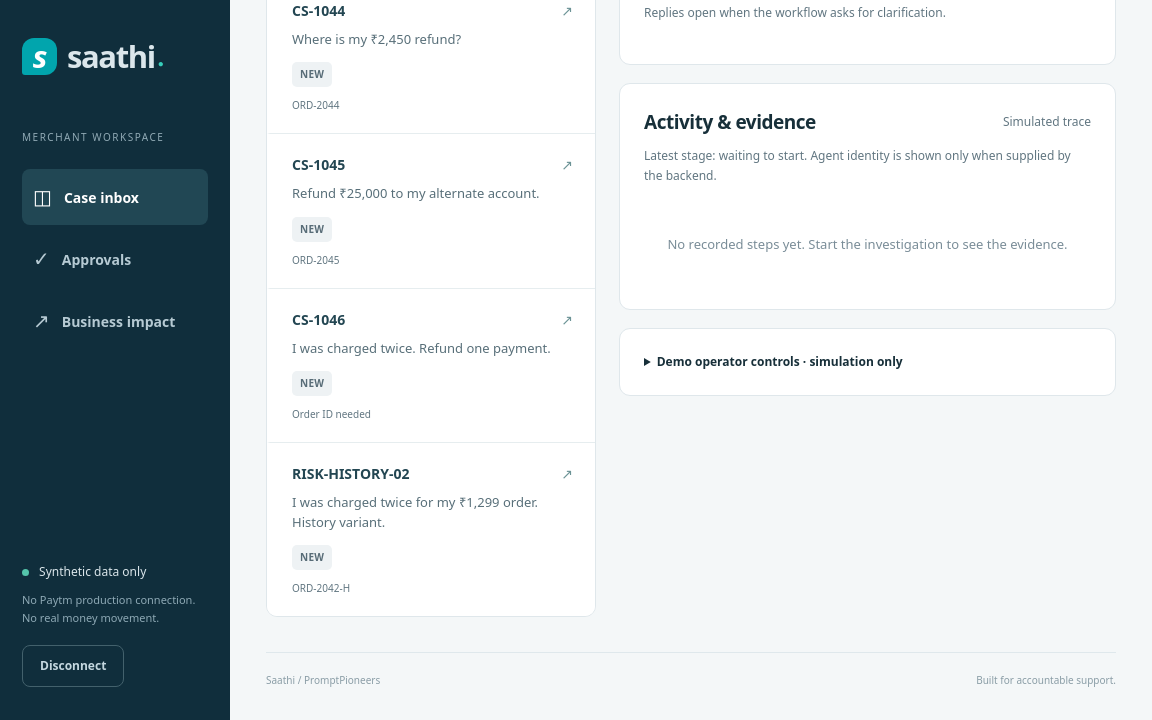
it: support workspace › asks for context and preserves the same case when the customer replies
(page scrolled)
Click the button "CS-1046" at [319, 319], box [267,288,595,442]
(page scrolled)
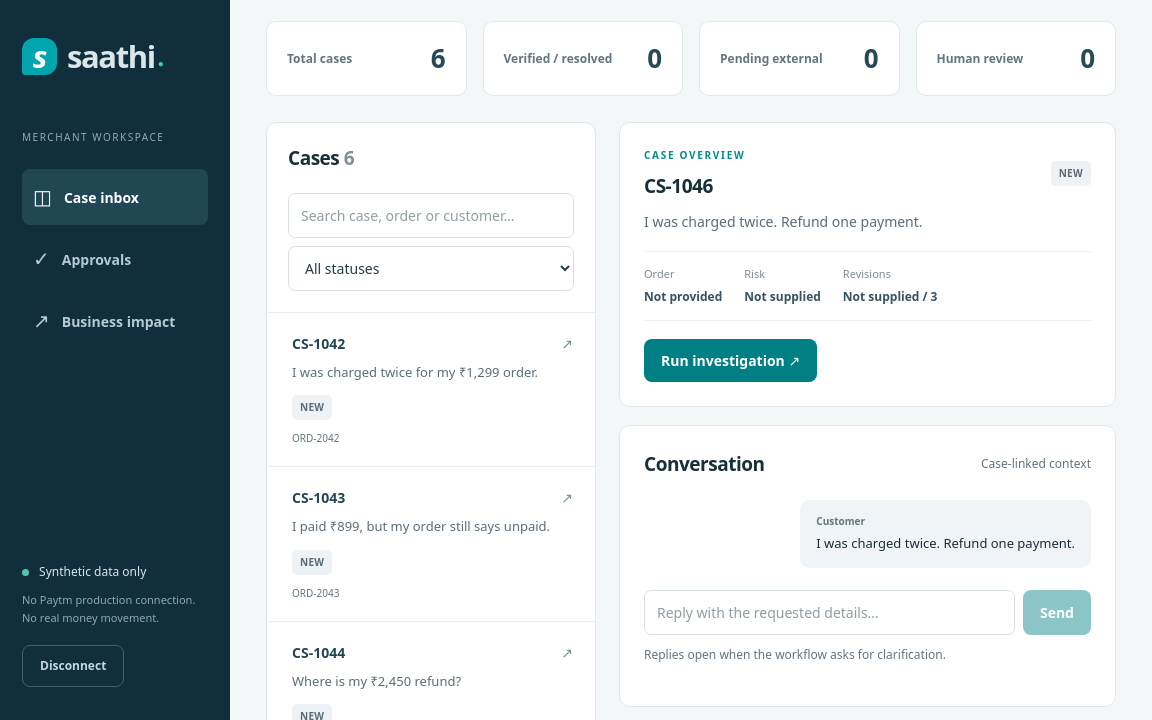
Click the button "Run investigation ↗" at [731, 360], box [644,339,817,382]
(page scrolled)
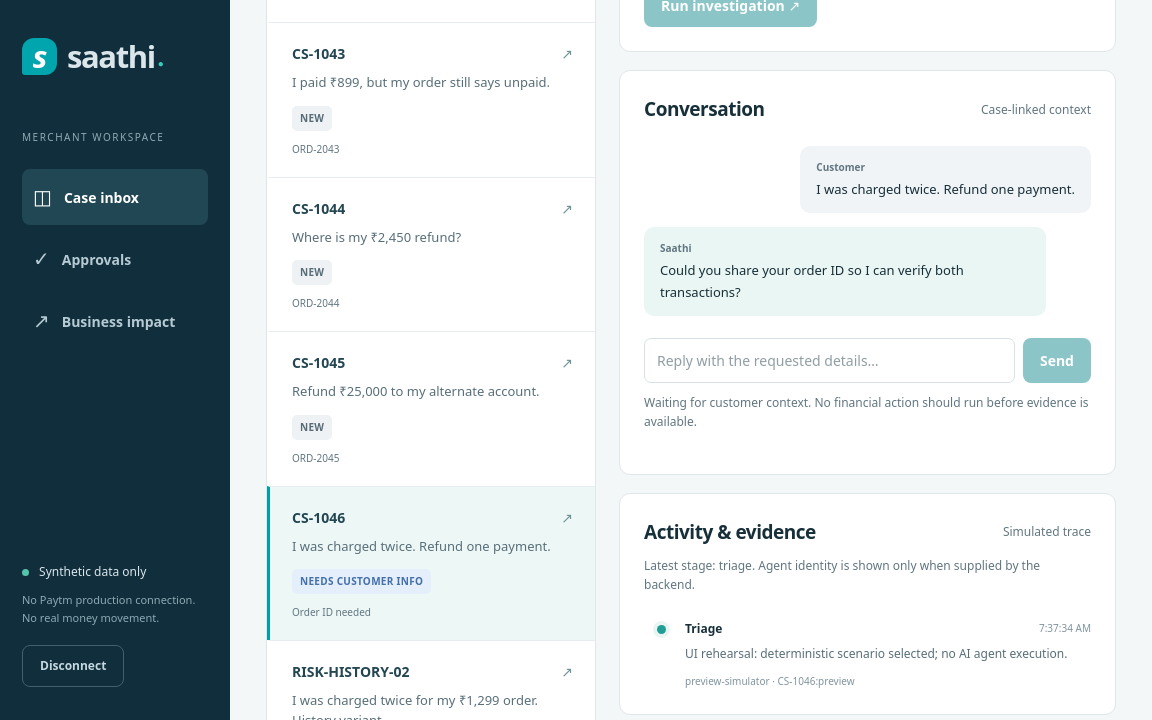
Result: the field named "Customer reply" is enabled
Type "ORD-2046" into the field named "Customer reply" at [829, 361], box [644,338,1015,383]
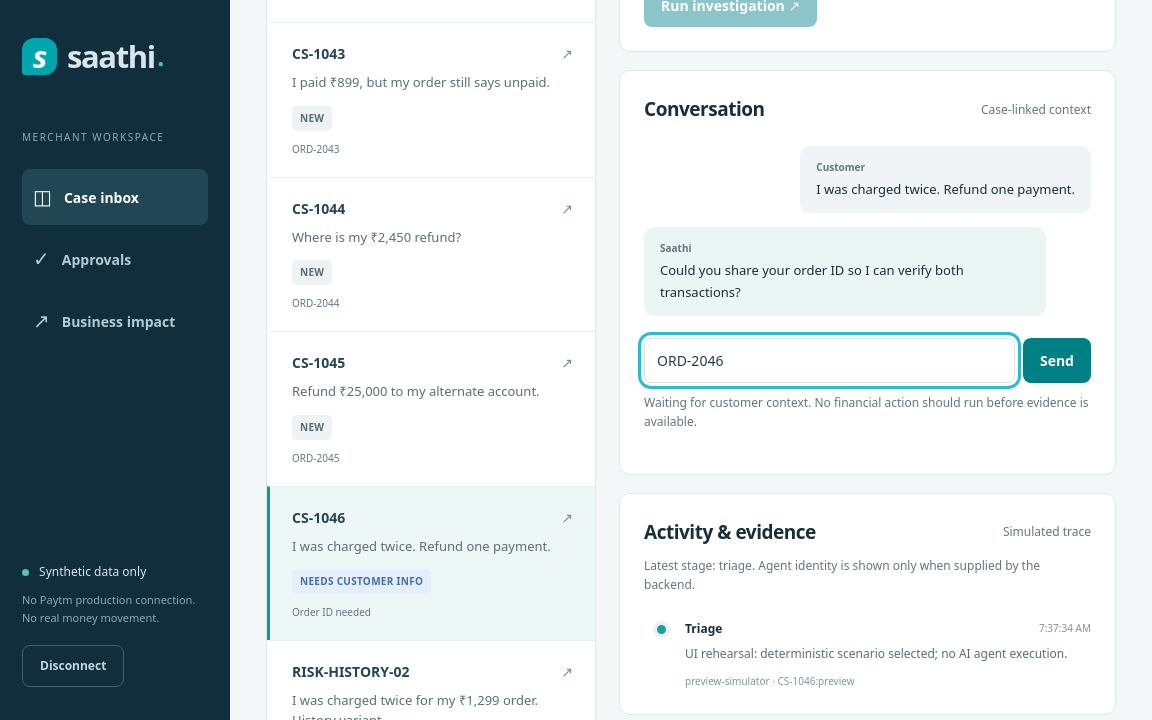
Click the button "Send" at [1057, 361], box [1023,338,1091,383]
(page scrolled)
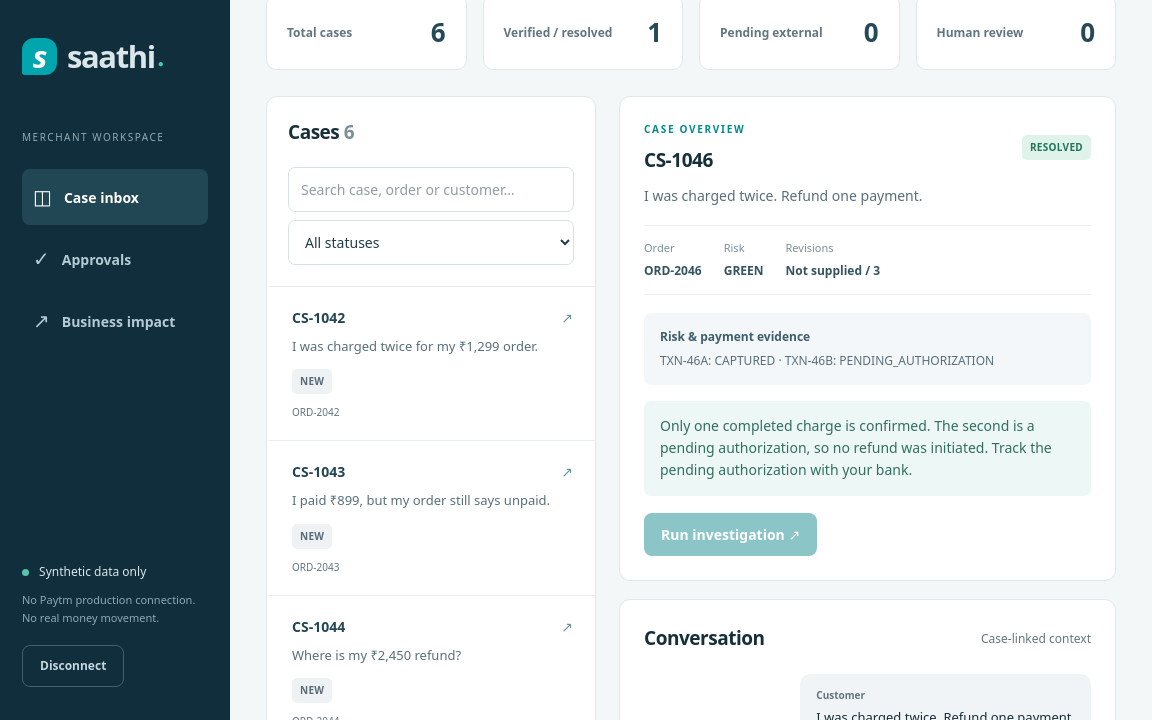
Result: the heading "CS-1046" is shown at [644,147,713,173]
Result: the text "Only one completed charge is confirmed" is shown at [660,416,1052,480]
Result: the text "TXN-46A: CAPTURED · TXN-46B: PENDING_AUTHORIZATION" is shown at [660,352,994,369]
